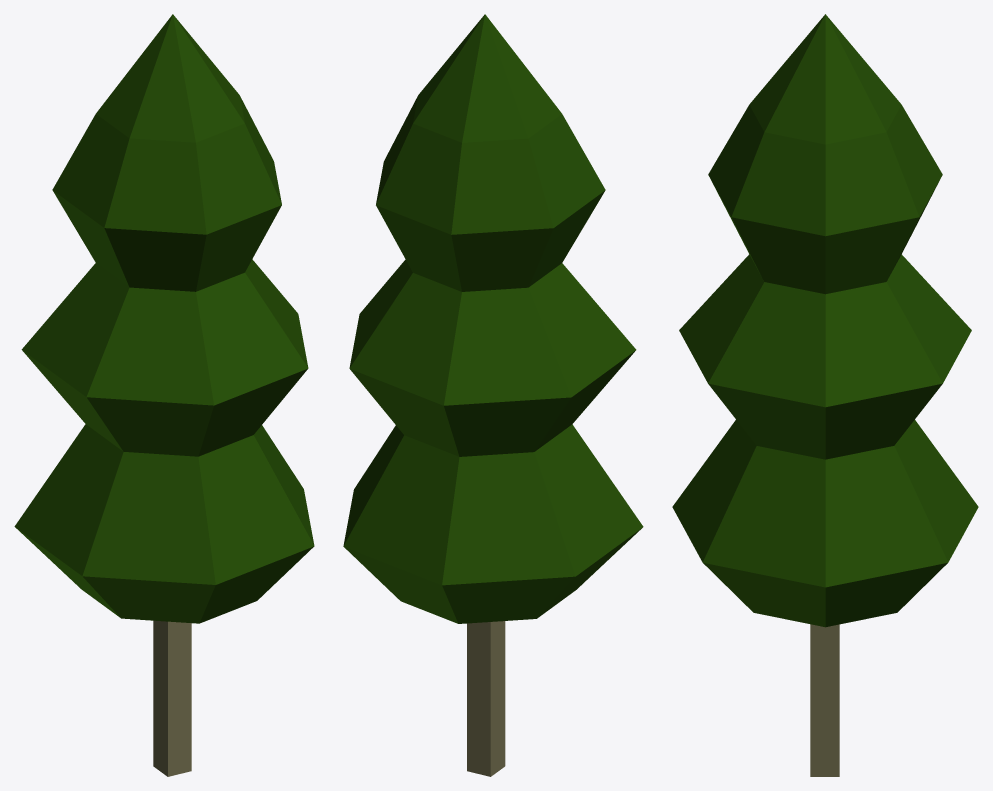
The model's file is tree33333 1.fbx.
3 views of the same model, side by side, from view 1: azimuth 30°, elevation 25°; view 2: azimuth 150°, elevation 25°; view 3: azimuth 270°, elevation 25° (orthographic).
Parts seen in each view (by area): view 1: polySurface2, polySurface1; view 2: polySurface2, polySurface1; view 3: polySurface2, polySurface1.
Boxes of the visible parts, x1,y1,x2,y2 form: polySurface2: [14, 14, 314, 623]; polySurface1: [153, 620, 191, 776]; polySurface2: [343, 14, 643, 623]; polySurface1: [467, 621, 505, 776]; polySurface2: [672, 14, 978, 627]; polySurface1: [810, 624, 839, 776].
Bounding box in the file's own units: 19.49 × 54.98 × 20.15.
